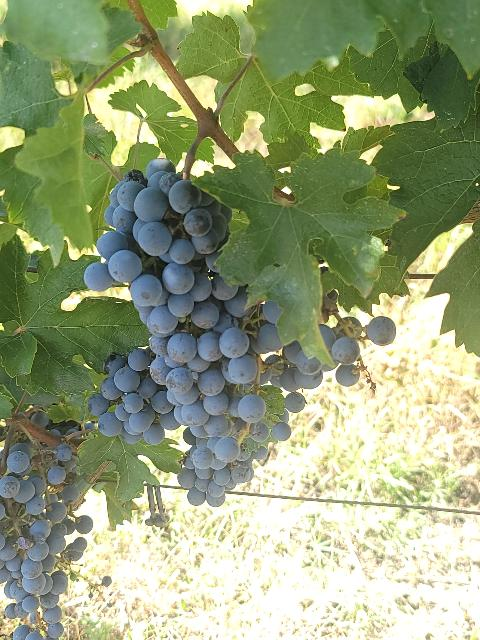grapes: (84, 159, 281, 430), (0, 441, 92, 640)
